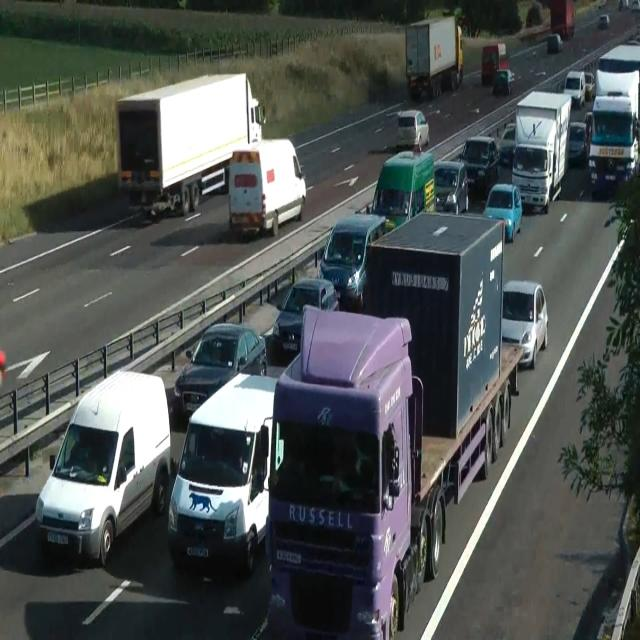bus: (173, 322, 267, 421), (272, 277, 339, 355), (501, 279, 548, 370), (482, 182, 522, 243), (395, 108, 429, 150), (567, 121, 587, 166), (498, 122, 516, 166), (492, 68, 514, 96), (584, 111, 592, 159), (547, 33, 563, 52), (584, 71, 594, 101), (618, 0, 640, 12), (598, 15, 610, 30), (584, 111, 592, 126), (618, 0, 628, 11), (597, 0, 607, 9)
jeep: (35, 367, 171, 567), (167, 372, 279, 574), (317, 212, 387, 306), (457, 134, 498, 190), (433, 158, 469, 214), (562, 69, 586, 107)
minibus: (265, 303, 523, 639), (362, 211, 504, 439), (115, 71, 266, 219), (228, 138, 306, 237), (511, 90, 571, 213), (368, 146, 436, 234), (585, 93, 639, 195), (405, 14, 463, 99), (594, 40, 640, 98), (481, 42, 509, 84), (550, 0, 574, 40)
